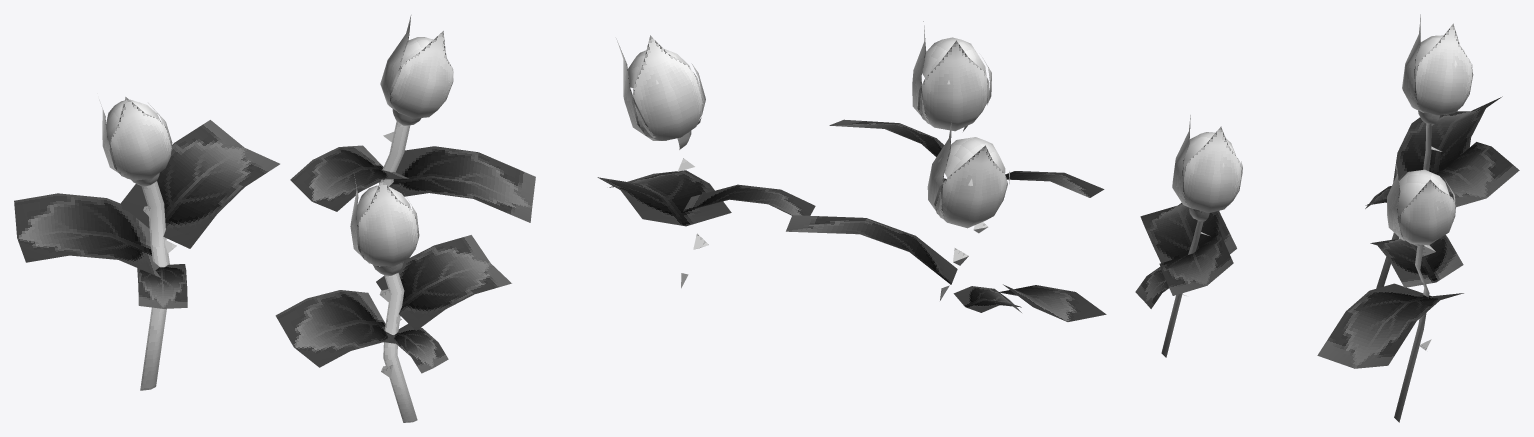
Rendered from PltFlwRose0.glb.
3 renders of one model, left to right at view 1: azimuth 30°, elevation 25°; view 2: azimuth 150°, elevation 25°; view 3: azimuth 270°, elevation 25°, orthographic. The views are drawn at different scales.
Parts seen in each view (by area): view 1: Bud1_1__mRoseLeaf, Bud3_1__mRosePetal; view 2: Bud1_1__mRoseLeaf, Bud3_1__mRosePetal; view 3: Bud1_1__mRoseLeaf, Bud3_1__mRosePetal.
Boxes of the visible parts, x1=… form: Bud1_1__mRoseLeaf: x1=14, y1=15, x2=535, y2=422; Bud3_1__mRosePetal: x1=106, y1=37, x2=446, y2=224; Bud1_1__mRoseLeaf: x1=597, y1=21, x2=1106, y2=321; Bud3_1__mRosePetal: x1=624, y1=37, x2=1005, y2=185; Bud1_1__mRoseLeaf: x1=1135, y1=14, x2=1519, y2=422; Bud3_1__mRosePetal: x1=1183, y1=35, x2=1464, y2=217.
Size of the model in its own units: 10.48 by 5.79 by 7.22.
2 materials, 2 textured.
